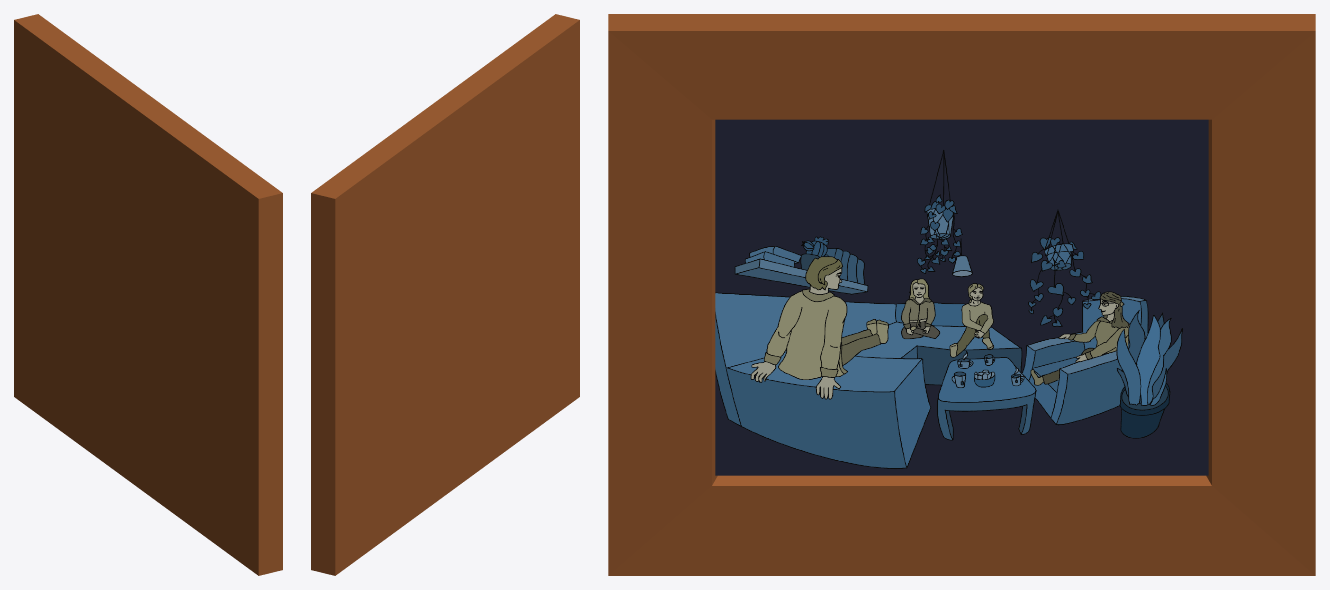
The model's file is Bubble1.1.glb.
3 views of the same model, side by side, from view 1: azimuth 30°, elevation 25°; view 2: azimuth 150°, elevation 25°; view 3: azimuth 270°, elevation 25° (orthographic). The views are drawn at different scales.
Visible parts, largest first — view 1: Plane, Plane.001; view 2: Plane, Plane.001; view 3: Plane.001, Bubble1, Plane.
Part boxes in pixels (box(x1,y1,x2,y2)): Plane: box(14, 17, 271, 575); Plane.001: box(27, 14, 282, 572); Plane: box(322, 17, 579, 575); Plane.001: box(311, 14, 567, 572); Plane.001: box(608, 23, 1315, 575); Bubble1: box(715, 119, 1208, 475); Plane: box(608, 14, 1315, 22).
Bounding box in the file's own units: 0.3328 × 4.95 × 5.82.
2 materials, 1 textured.
